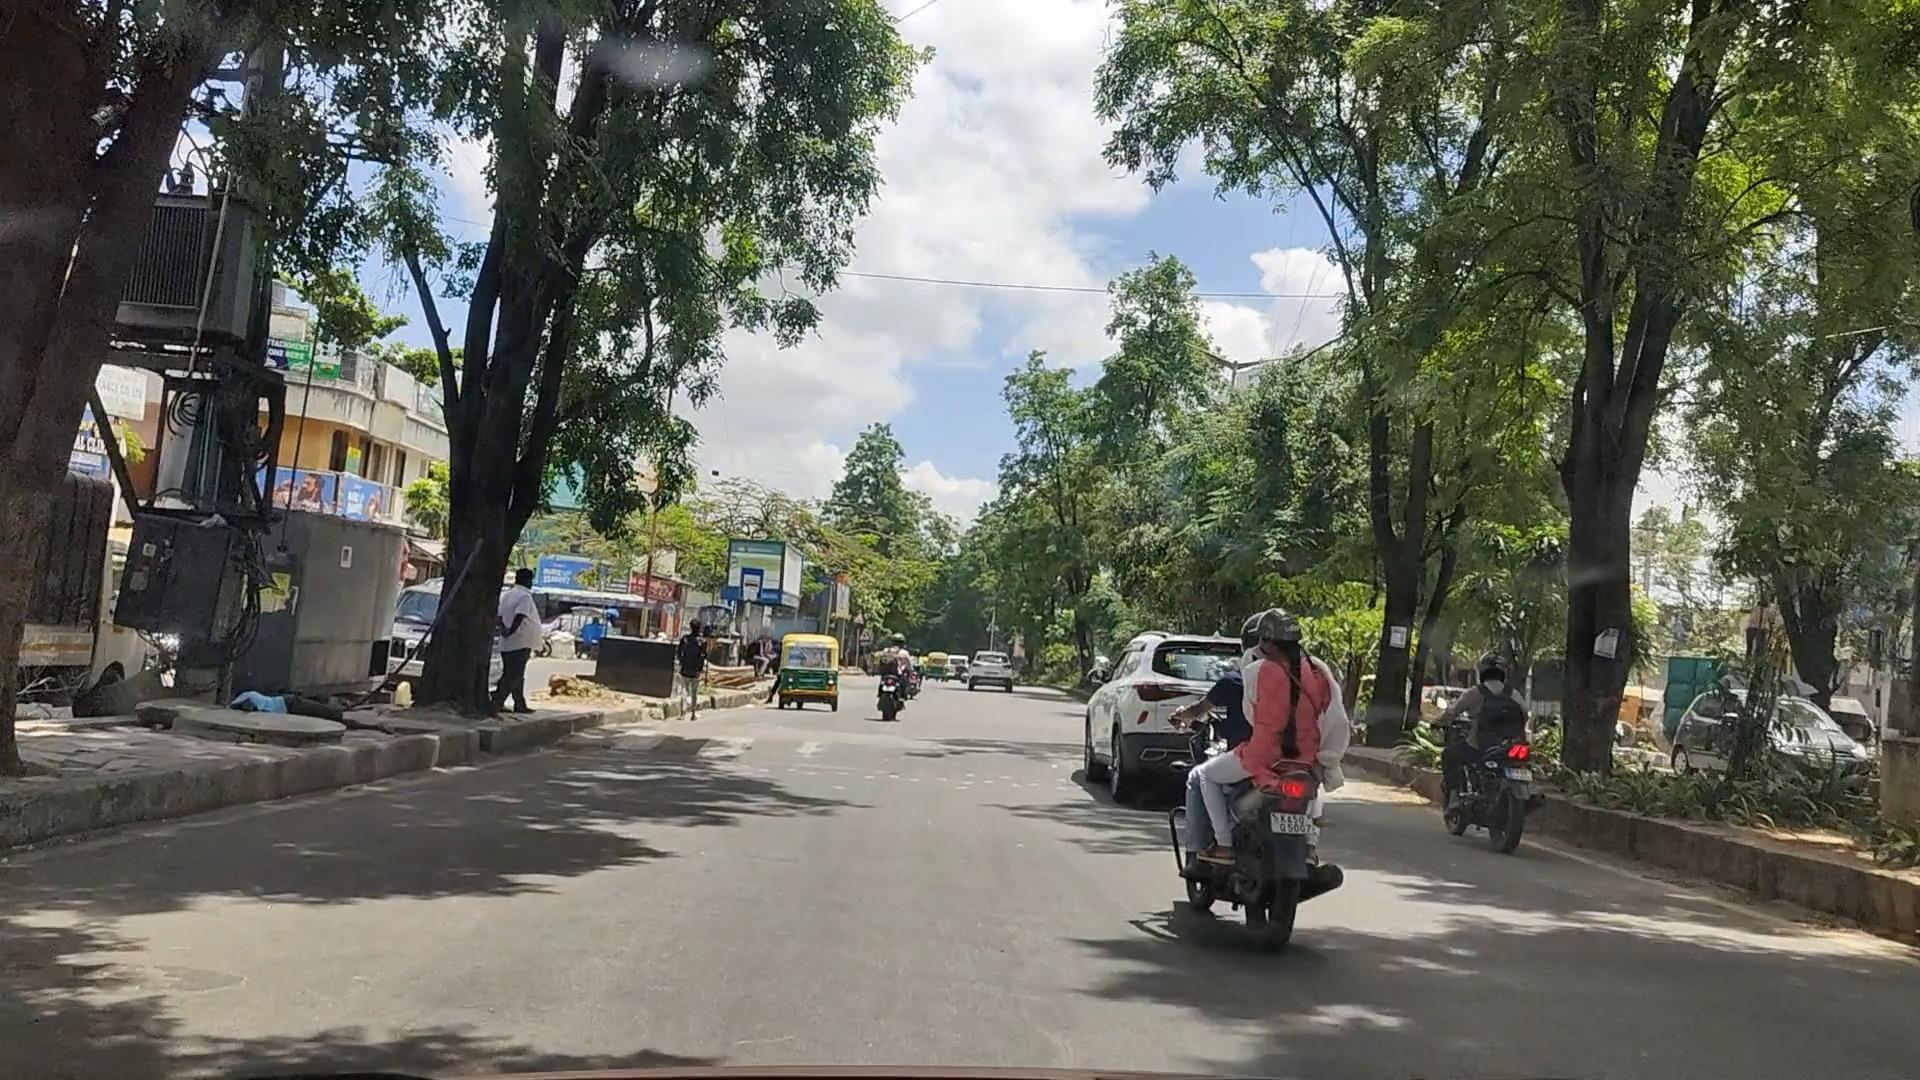LMV: (1188, 607, 1340, 977)
SpeedBump: (633, 721, 1063, 767)
